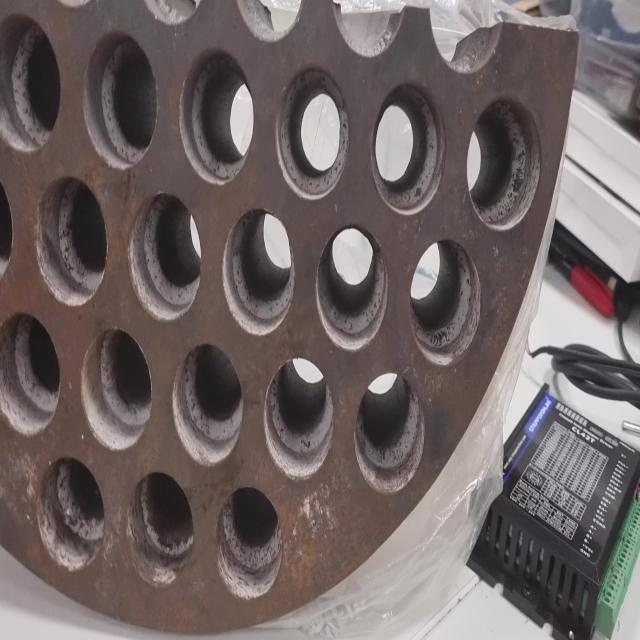Hole: (83, 30, 158, 170), (179, 47, 254, 185), (466, 96, 542, 230), (371, 80, 446, 215), (276, 64, 349, 200), (221, 205, 295, 336), (128, 192, 202, 322), (35, 175, 108, 306), (315, 222, 389, 351), (409, 237, 481, 366), (171, 342, 244, 466), (80, 326, 152, 451), (0, 12, 62, 154), (354, 372, 426, 494), (264, 356, 334, 481), (31, 454, 105, 572), (126, 469, 194, 587), (216, 484, 283, 601), (0, 309, 61, 436)
